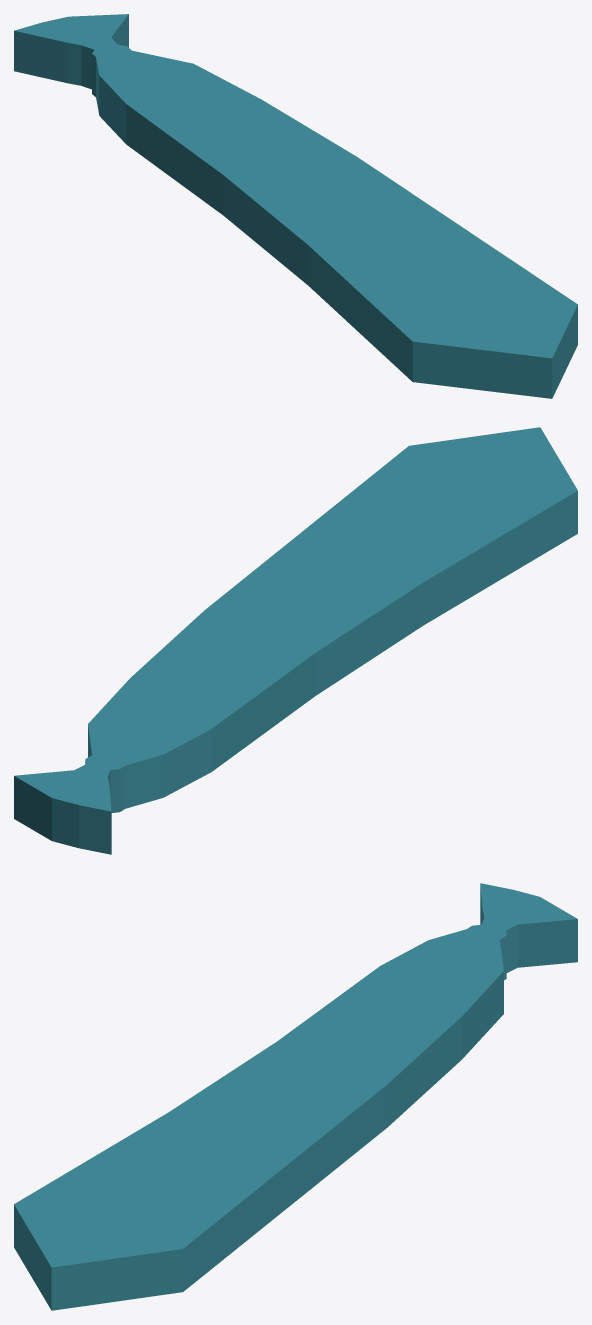
The model's file is stropdas.fbx.
The picture shows the model from 3 angles, top to bottom: view 1: azimuth 30°, elevation 25°; view 2: azimuth 150°, elevation 25°; view 3: azimuth 330°, elevation 25°; orthographic projection. The views are drawn at different scales.
Visible parts, largest first — view 1: blauwe-stropdas-800x800; view 2: blauwe-stropdas-800x800; view 3: blauwe-stropdas-800x800.
Boxes of the visible parts, box(x1,y1,x2,y2) form: blauwe-stropdas-800x800: box(14, 14, 577, 398); blauwe-stropdas-800x800: box(14, 427, 577, 854); blauwe-stropdas-800x800: box(14, 883, 577, 1310).
Size of the model in its own units: 18.26 by 4.36 by 92.07.
